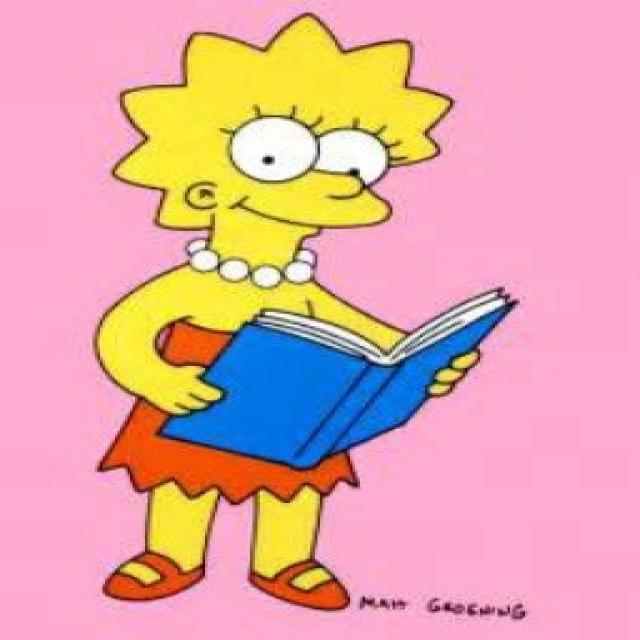Lisa Simpson: (106, 11, 459, 292)
